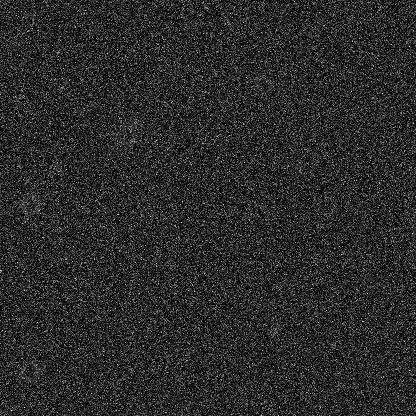Ring: (182, 7, 206, 31), (17, 359, 41, 383), (314, 194, 338, 218), (18, 191, 42, 215), (113, 123, 137, 147), (181, 77, 205, 101), (250, 72, 274, 96)
Spot: (55, 79, 71, 95), (49, 159, 65, 175), (126, 114, 142, 130), (348, 130, 364, 146), (266, 322, 282, 338), (384, 165, 400, 181)
